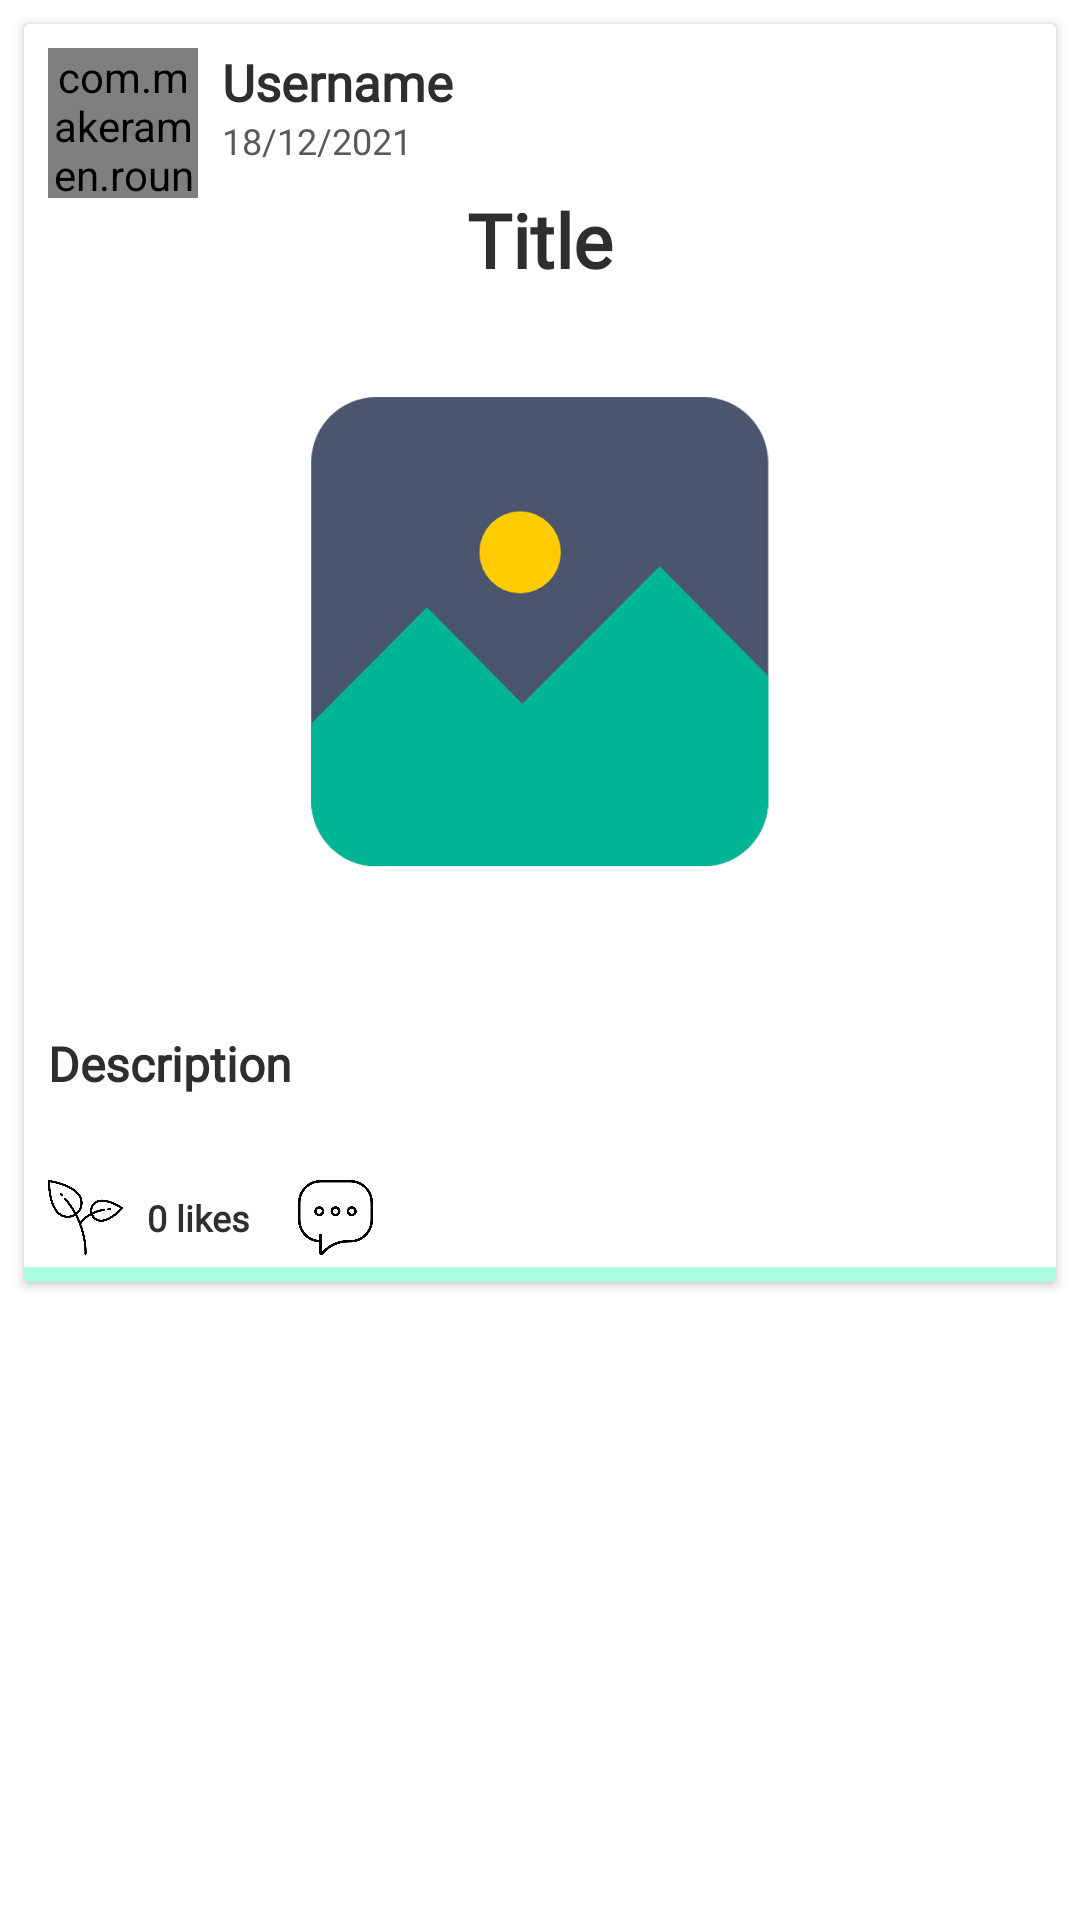

Named icons in this screenshot (1080x1920) and their centers, (x,y):
before liked: (85,1217)
comment: (335,1217)
